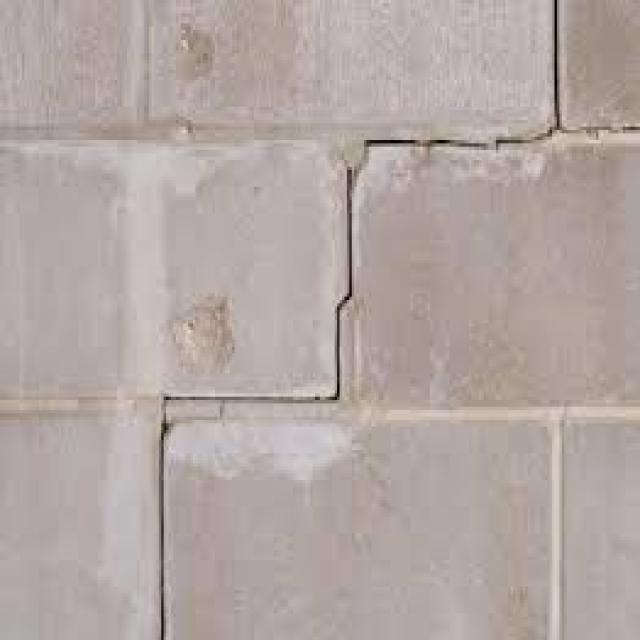Crack: (151, 0, 562, 637)
